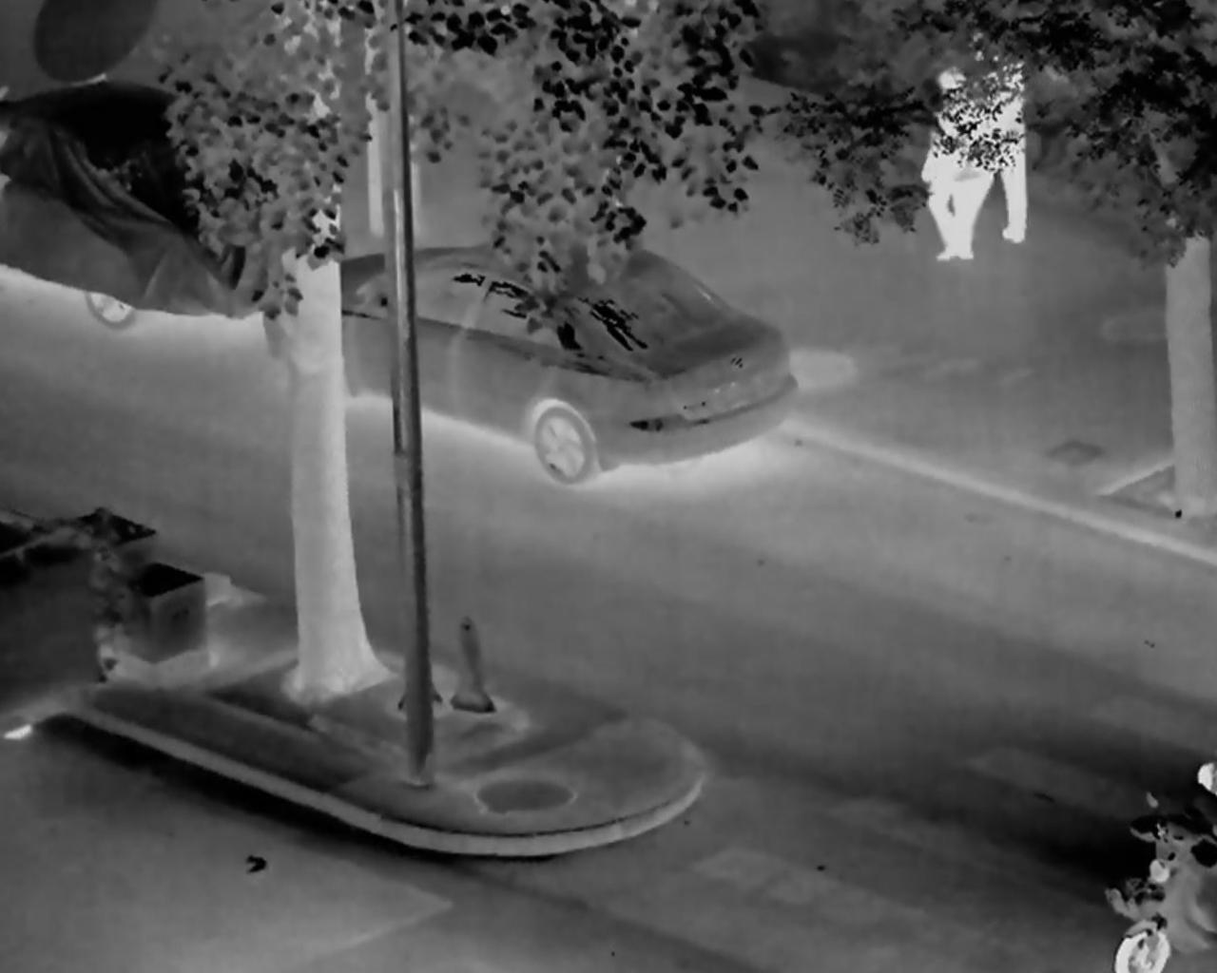person: (965, 29, 1030, 243), (919, 66, 976, 258)
